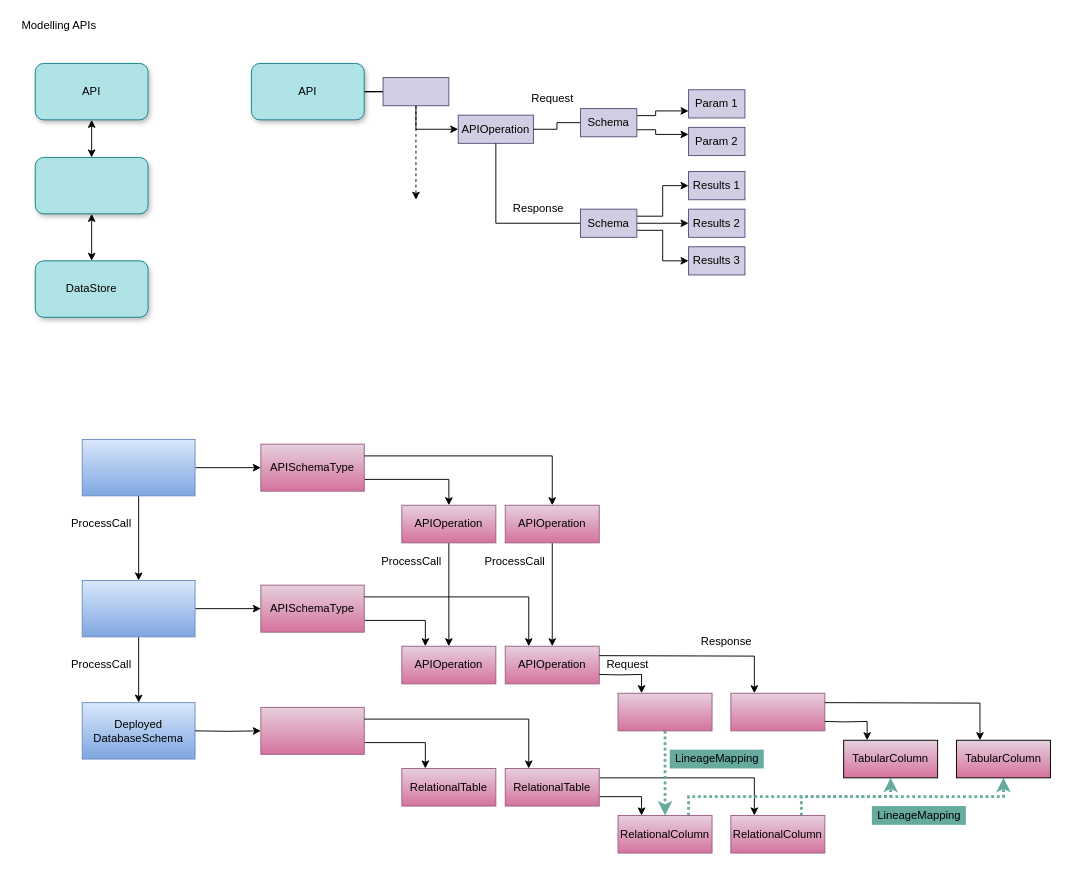
Image size: 1067x870. Some labels were removed from this diagram. Each missing label, with the centre of its shape:
APISchema: (415,91)
Deployed SoftwareComponent: (138,608)
DeployedAPI: (138,467)
Microservice: (92,186)
Primitive SchemaType: (664,711)
RelationalDB SchemaType: (312,730)
Tabular SchemaType: (777,711)
